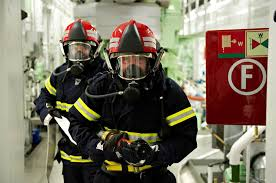emergent: (105, 21, 191, 182), (44, 19, 107, 150)
